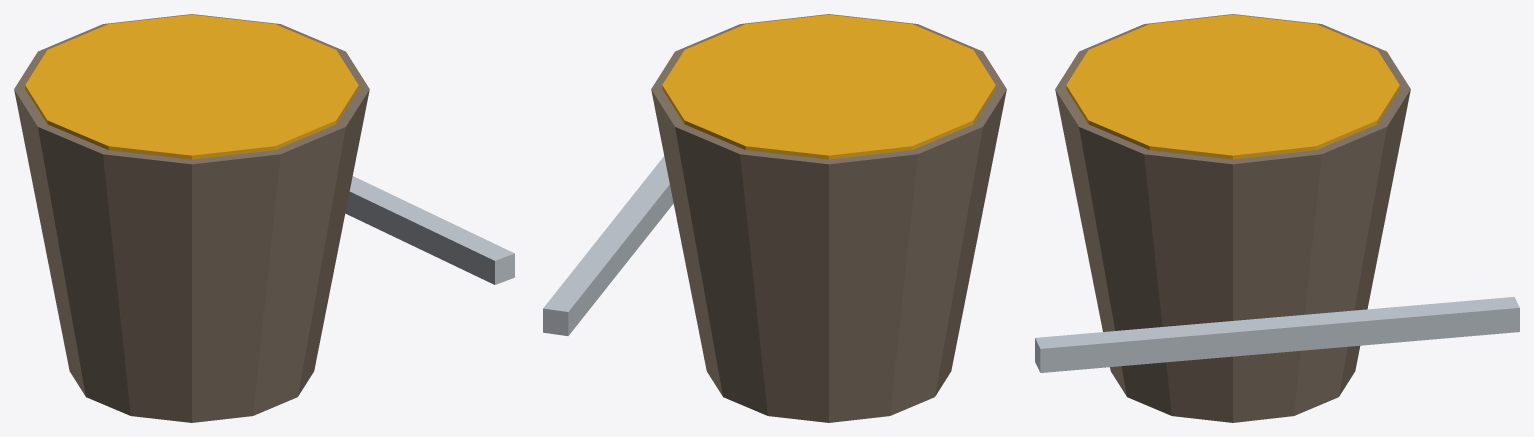
Rendered from gold_crucible.glb.
3 views of the same model, side by side, from view 1: azimuth 30°, elevation 25°; view 2: azimuth 150°, elevation 25°; view 3: azimuth 270°, elevation 25° (orthographic).
Parts seen in each view (by area): view 1: pot_crucible_clay, gold_melt_gold, tongs_dental_chrome; view 2: pot_crucible_clay, gold_melt_gold, tongs_dental_chrome; view 3: pot_crucible_clay, gold_melt_gold, tongs_dental_chrome.
Boxes of the visible parts, box(x1,y1,x2,y2) form: pot_crucible_clay: box(14, 14, 369, 422); gold_melt_gold: box(25, 14, 358, 159); tongs_dental_chrome: box(345, 176, 514, 284); pot_crucible_clay: box(651, 14, 1006, 422); gold_melt_gold: box(662, 14, 995, 159); tongs_dental_chrome: box(543, 156, 673, 335); pot_crucible_clay: box(1055, 14, 1410, 422); gold_melt_gold: box(1066, 14, 1399, 159); tongs_dental_chrome: box(1035, 297, 1519, 372).
Bounding box in the file's own units: 0.1977 × 0.142 × 0.218.
